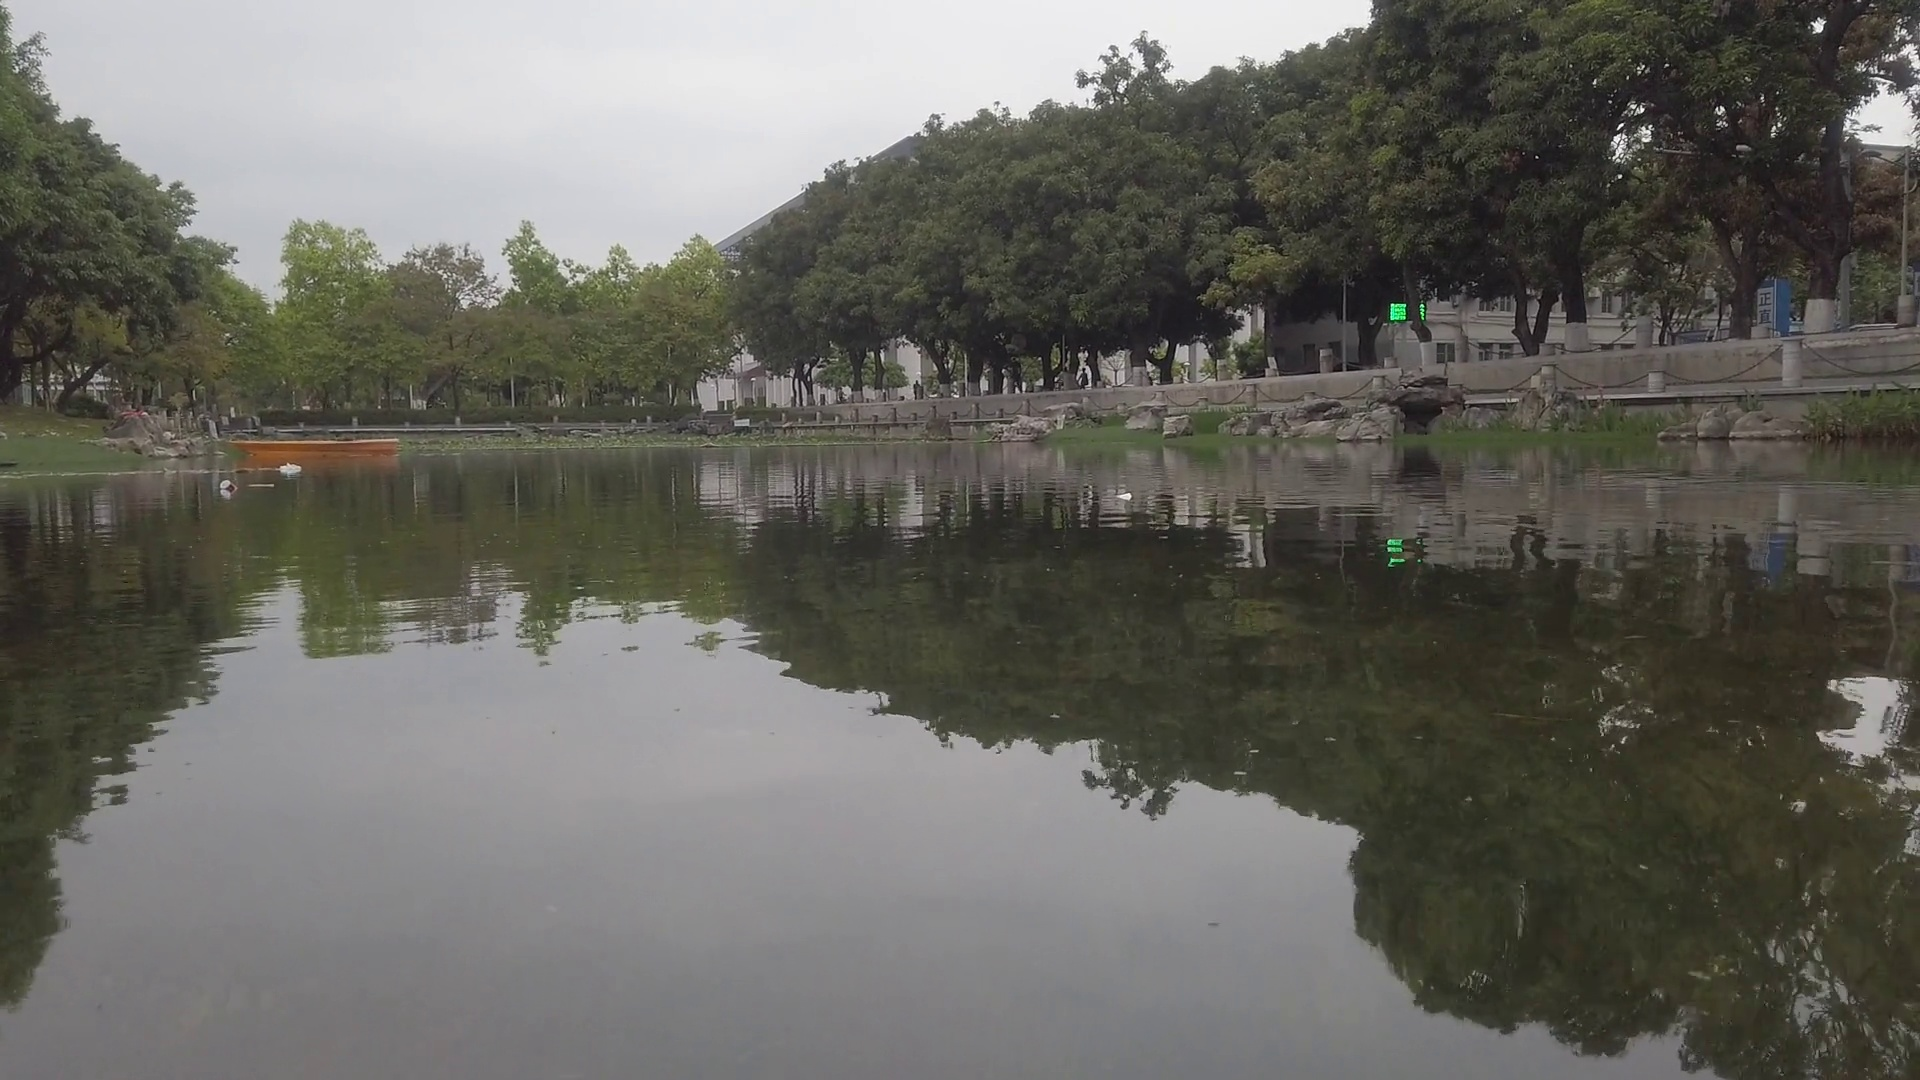bottle: (219, 477, 236, 495)
paper: (1117, 491, 1135, 502), (251, 481, 276, 489)
plastic: (278, 463, 302, 473)
